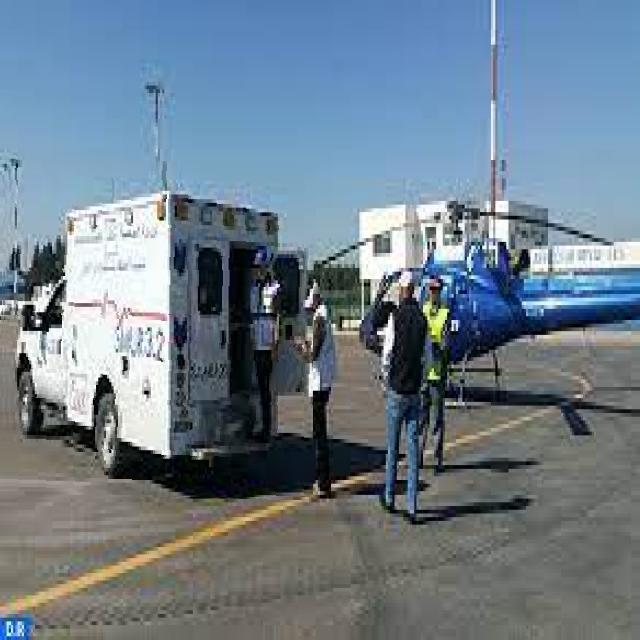ambulance: (0, 157, 313, 497)
